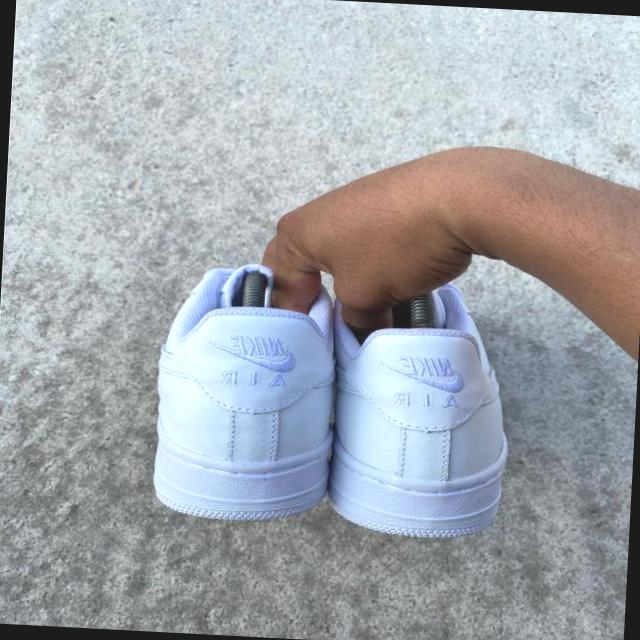nike_original_airforce: (328, 261, 518, 550), (140, 260, 340, 524)
